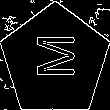M_W: (31, 38, 79, 84)
